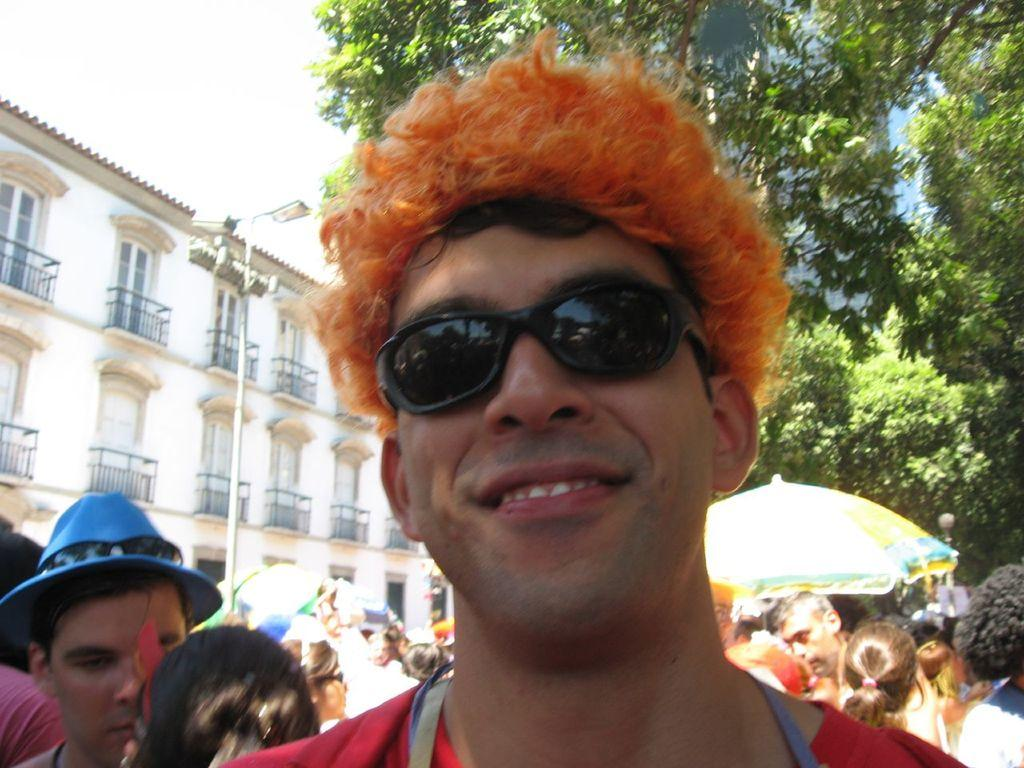Hat: (0, 490, 221, 628)
